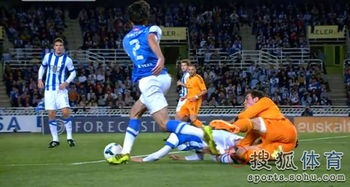falling: (204, 82, 302, 168)
